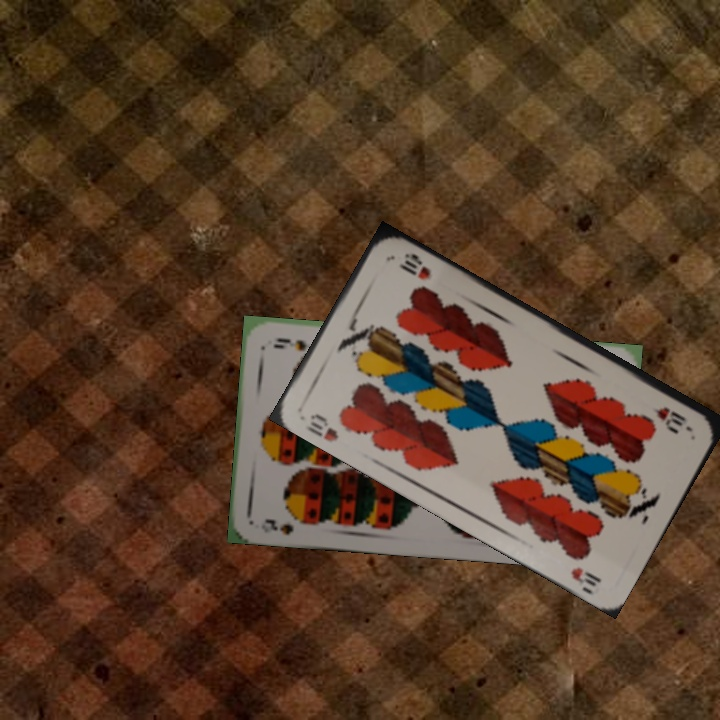H10: (303, 409, 341, 445), (648, 402, 690, 429)
S9: (260, 512, 312, 538)
